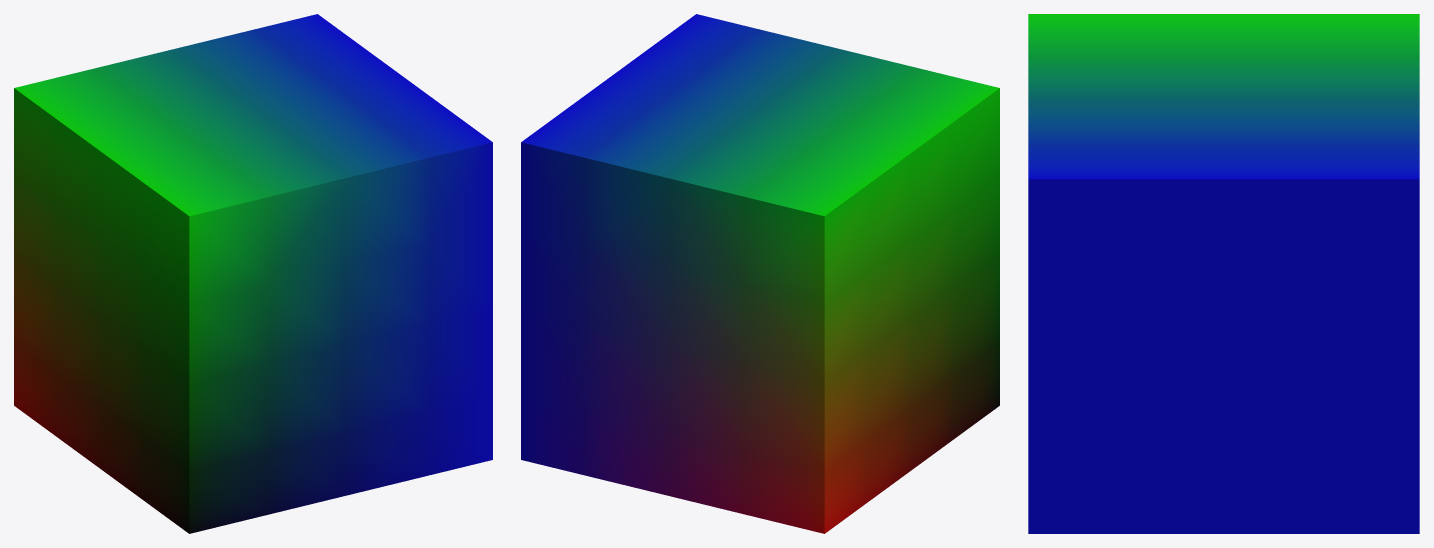
File: Player.fbx
3 renders of one model, left to right at view 1: azimuth 30°, elevation 25°; view 2: azimuth 150°, elevation 25°; view 3: azimuth 270°, elevation 25°, orthographic. The views are drawn at different scales.
Visible parts, largest first — view 1: player; view 2: player; view 3: player.
Part boxes in pixels (x1,y1,x2,y2): player: [14, 14, 492, 533]; player: [521, 14, 999, 533]; player: [1028, 14, 1419, 533].
Bounding box in the file's own units: 200 × 200 × 200.
